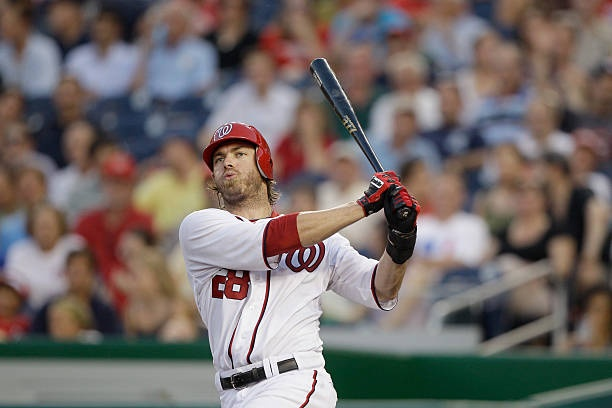bita: (308, 57, 396, 198)
